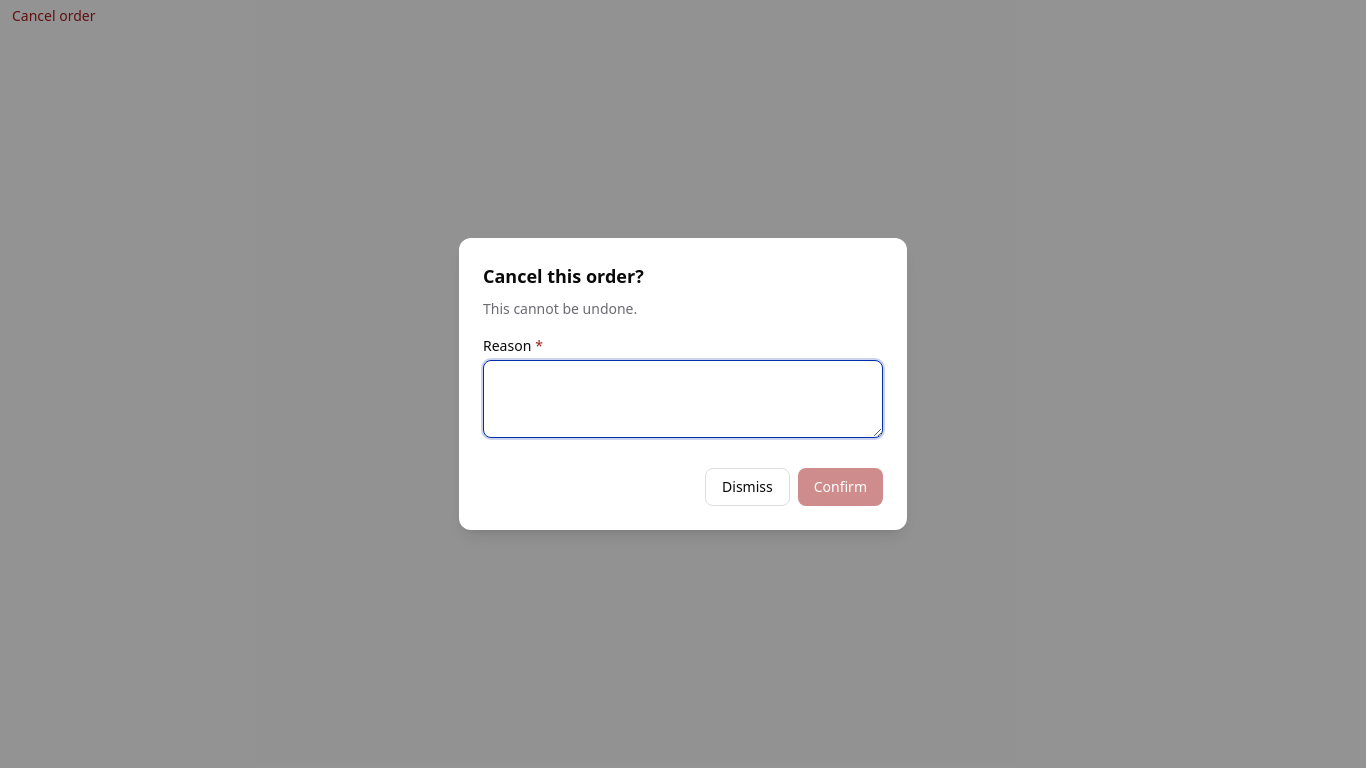
Test: ConfirmDialog accessibility › disables Confirm until a required field is filled in
Expected: the button "Confirm" is disabled, [798, 468, 883, 506]
Step 1. Type "Out of stock" into the text box labelled "Reason" → [683, 399], box [483, 360, 883, 438]
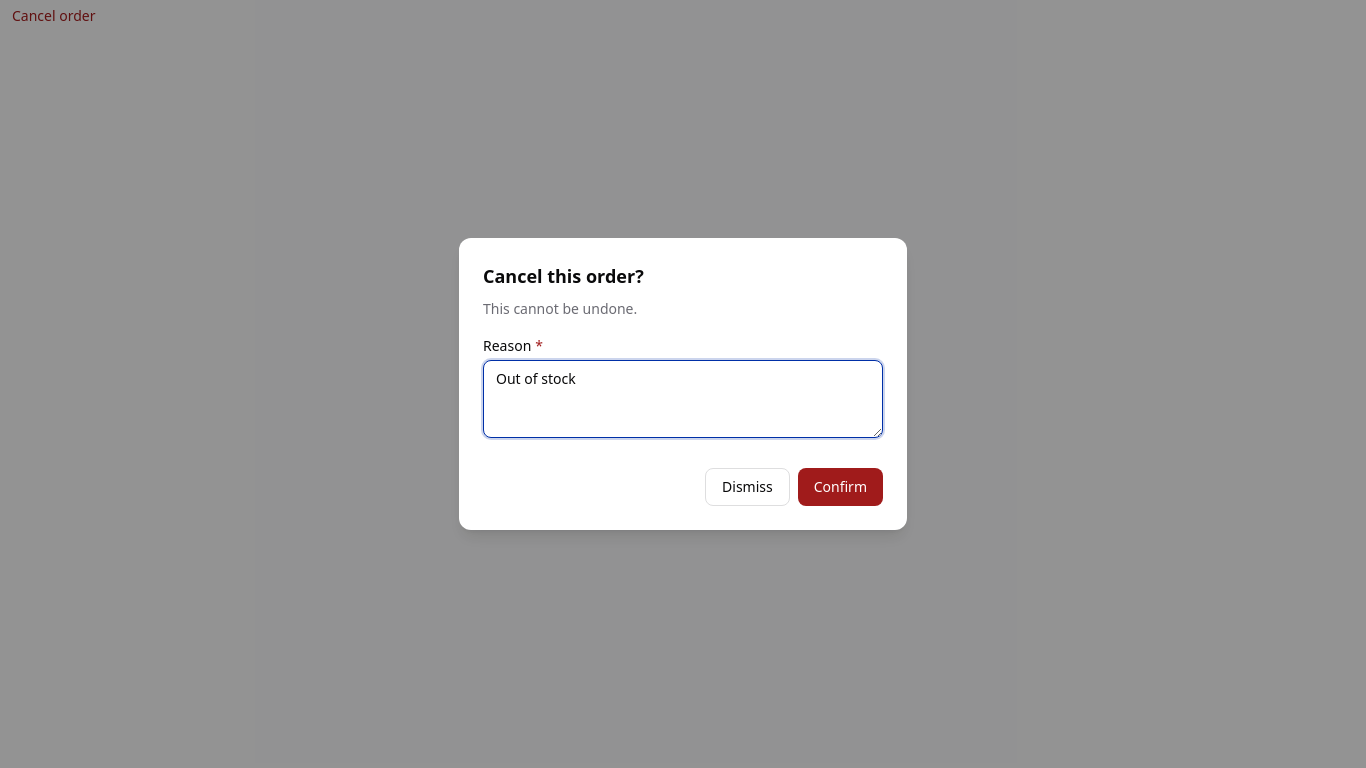
Expected: the button "Confirm" is enabled, [798, 468, 883, 506]
